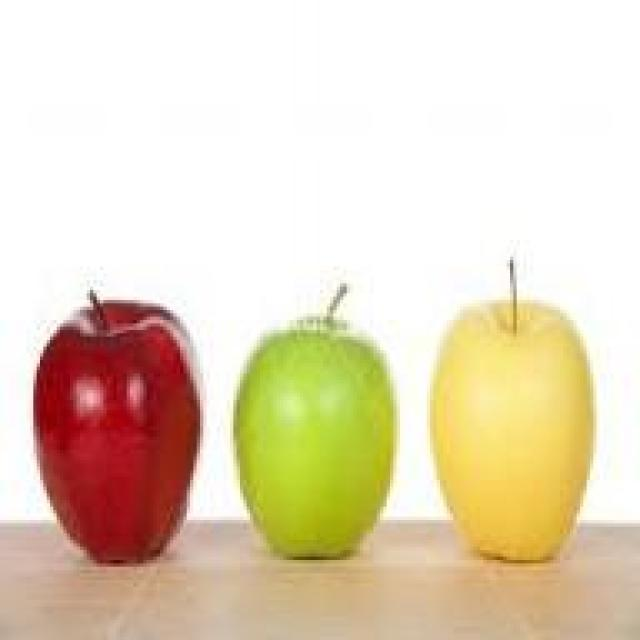apple: (34, 307, 214, 570), (436, 300, 596, 560), (237, 307, 400, 553)
